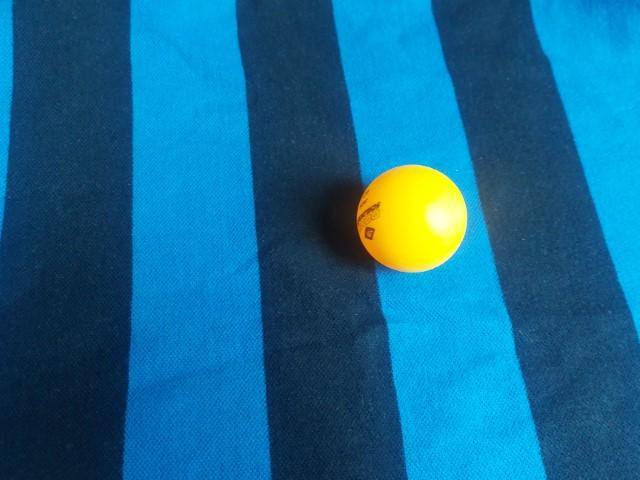oball: (163, 199, 295, 326)
